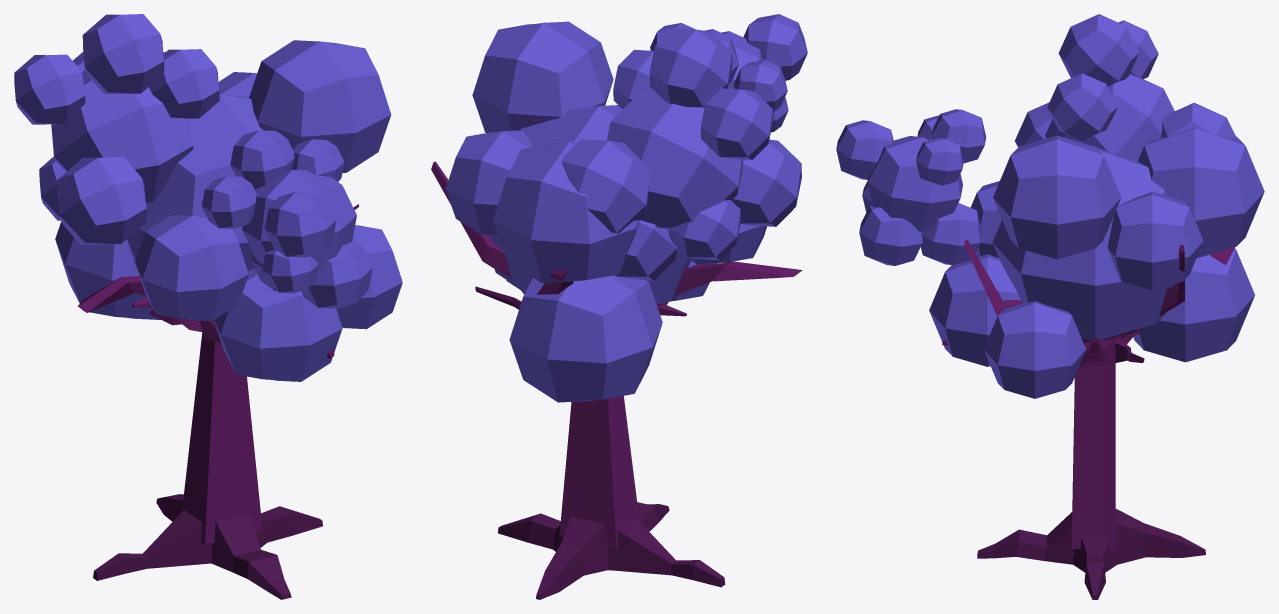
The model's file is pohonhoror.fbx.
3 views of the same model, side by side, from view 1: azimuth 30°, elevation 25°; view 2: azimuth 150°, elevation 25°; view 3: azimuth 270°, elevation 25° (orthographic). The views are drawn at different scales.
Parts seen in each view (by area): view 1: Cube.002, Cube; view 2: Cube.002, Cube; view 3: Cube.002, Cube.
Part boxes in pixels (x1,y1,x2,y2): Cube.002: [14, 14, 402, 381]; Cube: [77, 204, 358, 599]; Cube.002: [445, 14, 807, 402]; Cube: [431, 161, 802, 599]; Cube.002: [836, 14, 1264, 398]; Cube: [942, 239, 1234, 599].
Bounding box in the file's own units: 1532 × 2482 × 1933.
